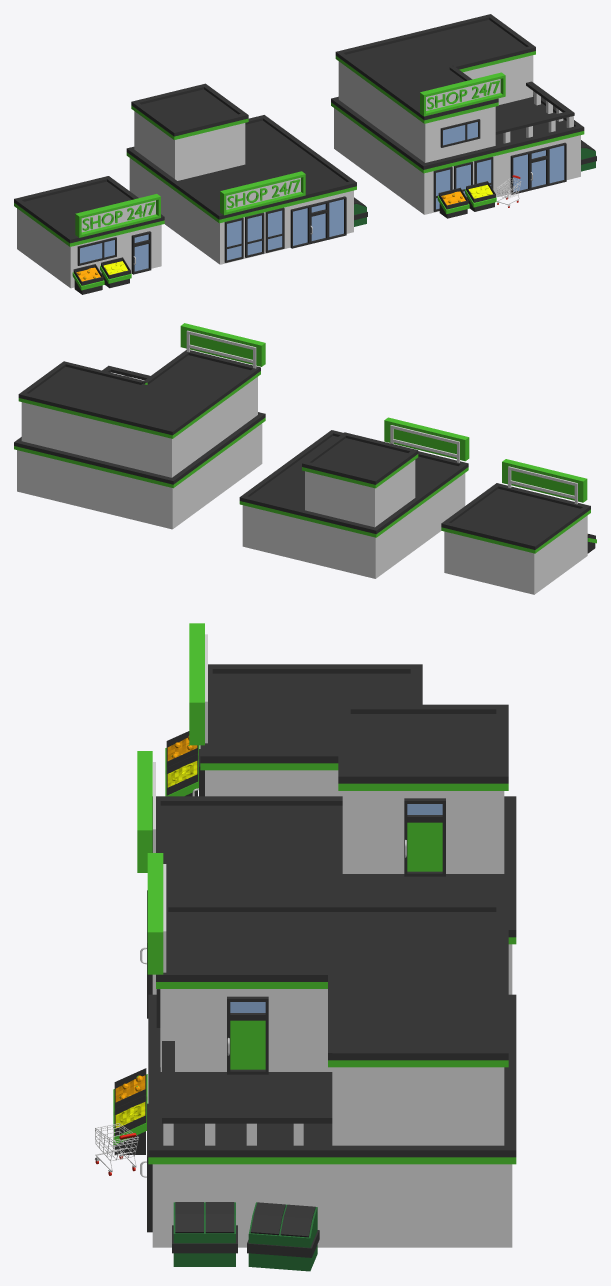
File: shop.fbx
3 views of the same model, one above another, from view 1: azimuth 30°, elevation 25°; view 2: azimuth 150°, elevation 25°; view 3: azimuth 270°, elevation 25° (orthographic). The views are drawn at different scales.
Visible parts, largest first — view 1: shop_t3, shop_t2, shop_t1; view 2: shop_t3, shop_t2, shop_t1; view 3: shop_t3, shop_t2, shop_t1.
Part boxes in pixels (box(x1,y1,x2,y2)): shop_t3: box(331, 14, 596, 218); shop_t2: box(126, 83, 367, 264); shop_t1: box(14, 176, 164, 294); shop_t3: box(14, 323, 265, 529); shop_t2: box(239, 417, 469, 578); shop_t1: box(441, 459, 596, 594); shop_t3: box(95, 853, 516, 1271); shop_t2: box(137, 704, 516, 1018); shop_t1: box(165, 623, 422, 796).
Bounding box in the file's own units: 2311 × 510 × 810.
